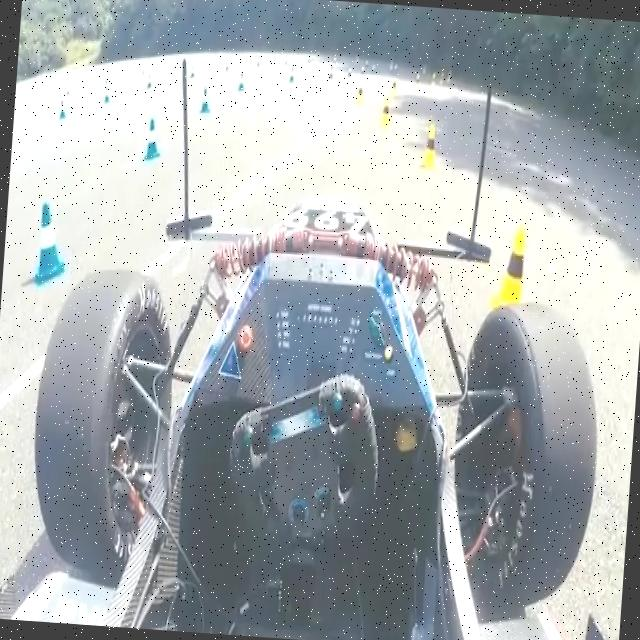blue_cone: (21, 194, 73, 284), (140, 115, 168, 162), (232, 64, 251, 98), (198, 82, 214, 120), (286, 60, 296, 86)
yellow_cone: (490, 214, 540, 318), (419, 118, 446, 180), (354, 82, 366, 106), (325, 62, 335, 79), (382, 105, 393, 119)
